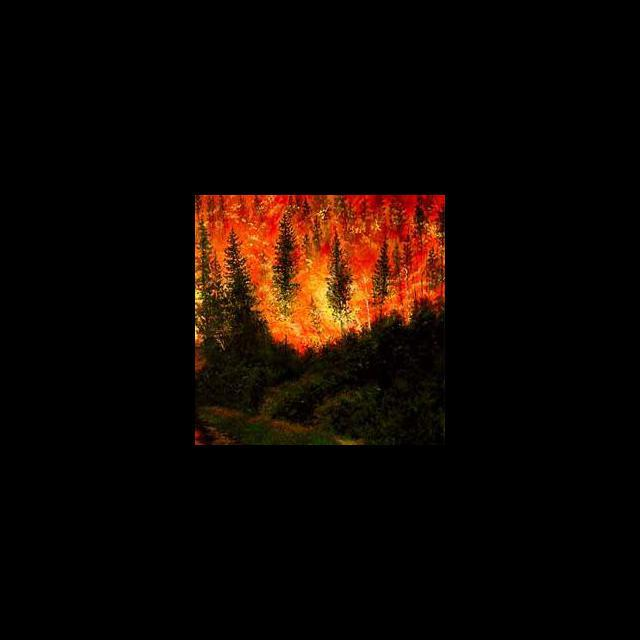Fire: (196, 195, 445, 358)
